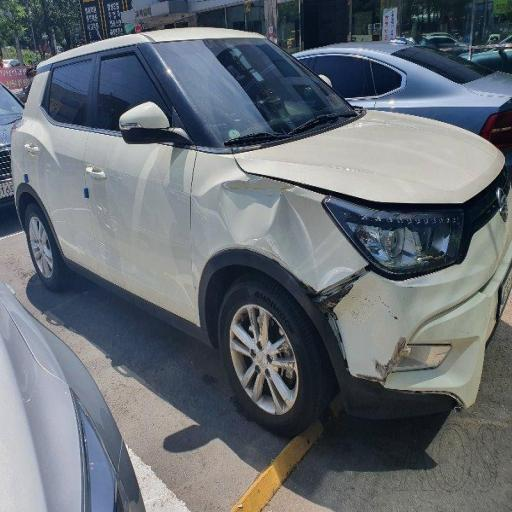broken: (302, 276, 406, 401)
dent: (195, 156, 358, 274)
